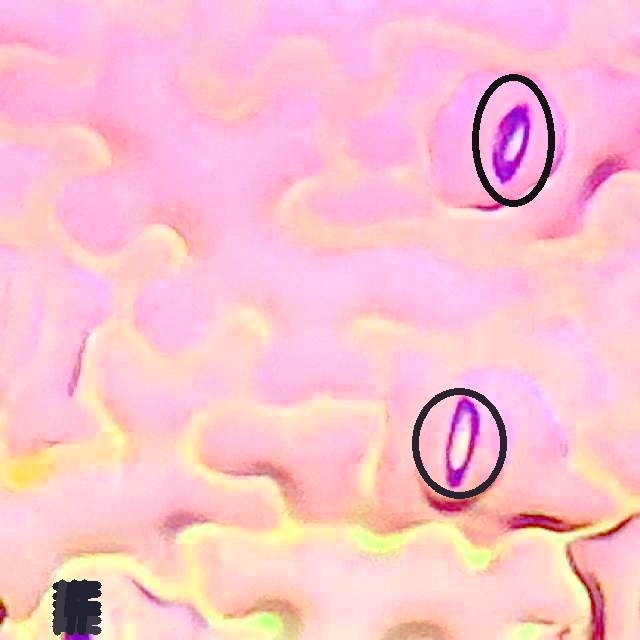open: (471, 73, 554, 207), (411, 388, 507, 498), (52, 579, 101, 635)
